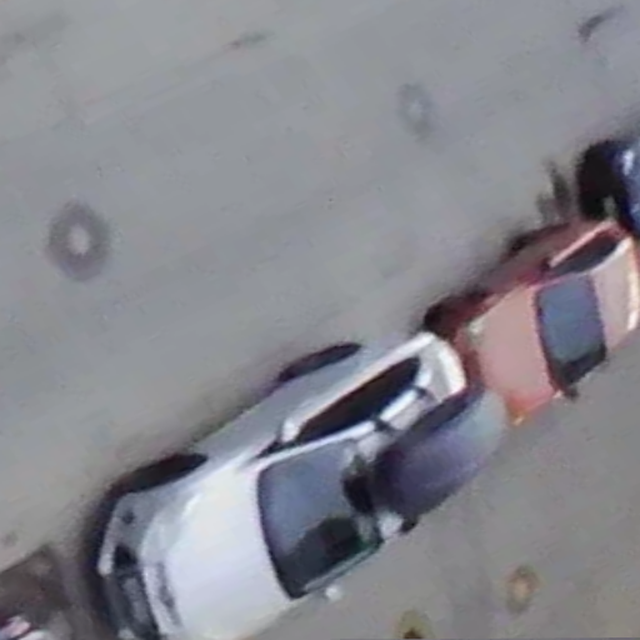car: (99, 329, 498, 640), (421, 220, 640, 423)
